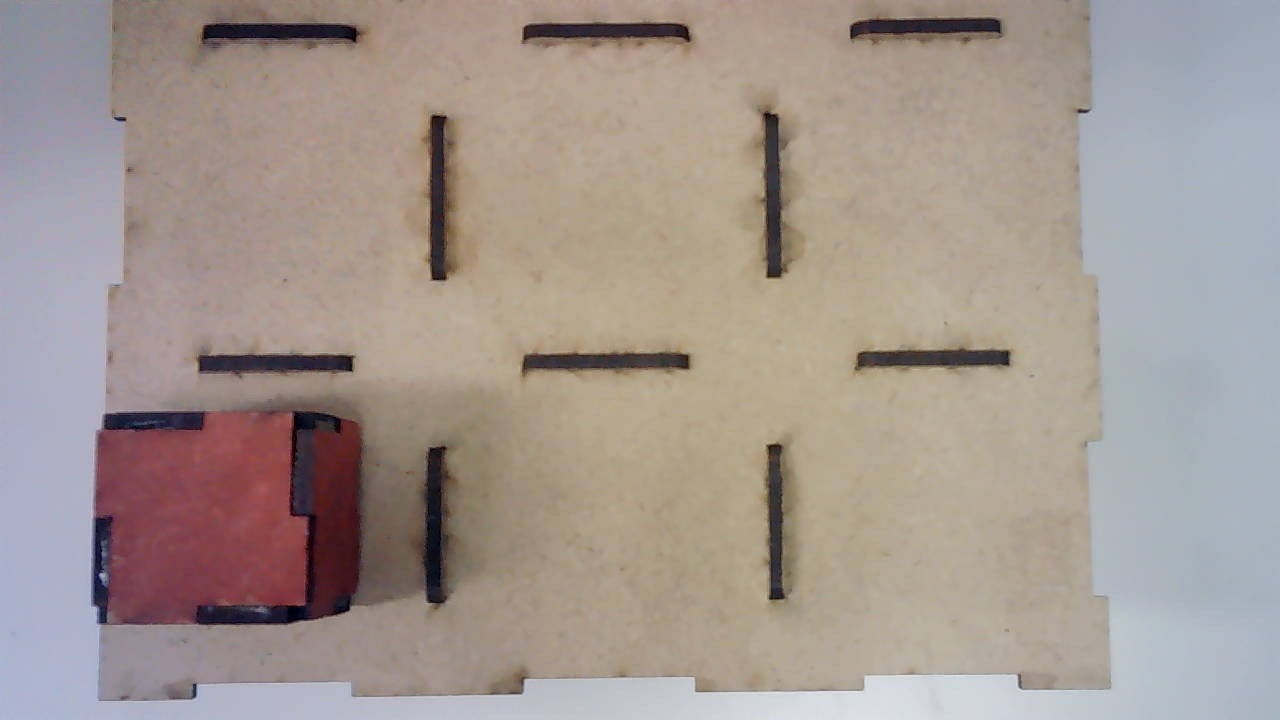red box: (94, 409, 361, 625)
